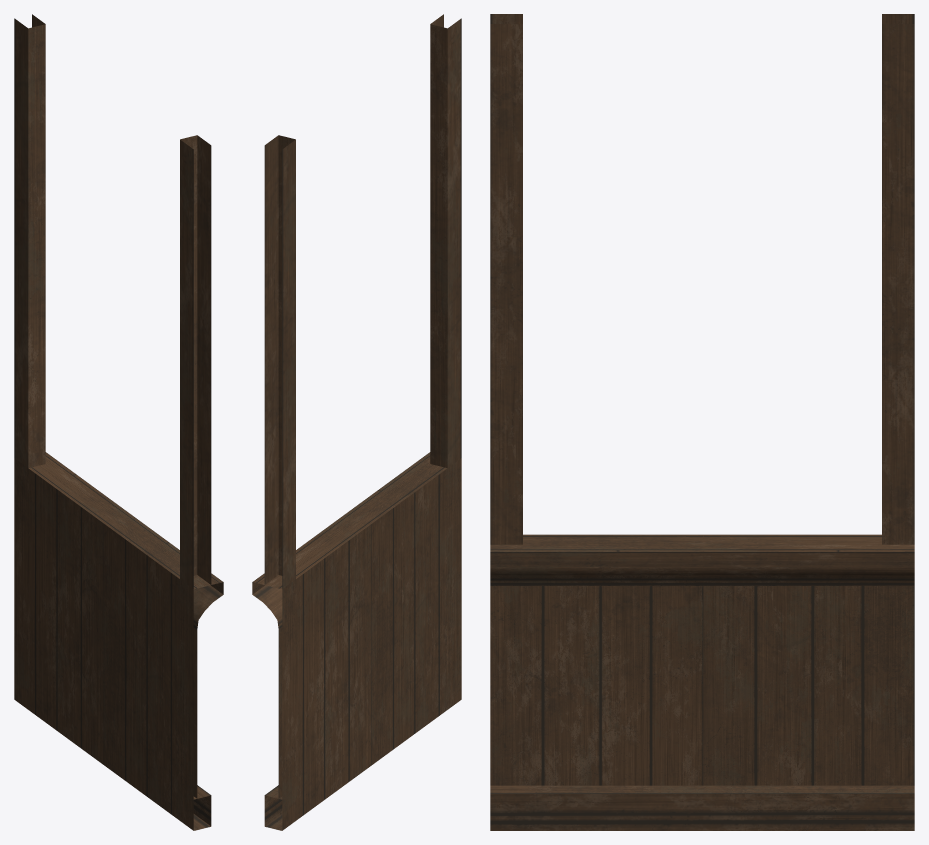
File: TowerOverhang_Wall.fbx
3 renders of one model, left to right at view 1: azimuth 30°, elevation 25°; view 2: azimuth 150°, elevation 25°; view 3: azimuth 270°, elevation 25°, orthographic. The views are drawn at different scales.
Visible parts, largest first — view 1: polySurface58; view 2: polySurface58; view 3: polySurface58.
Part boxes in pixels (x1,y1,x2,y2): polySurface58: (14, 14, 223, 830); polySurface58: (252, 14, 461, 830); polySurface58: (490, 14, 914, 830).
Bounding box in the file's own units: 9.58 × 210 × 100.
